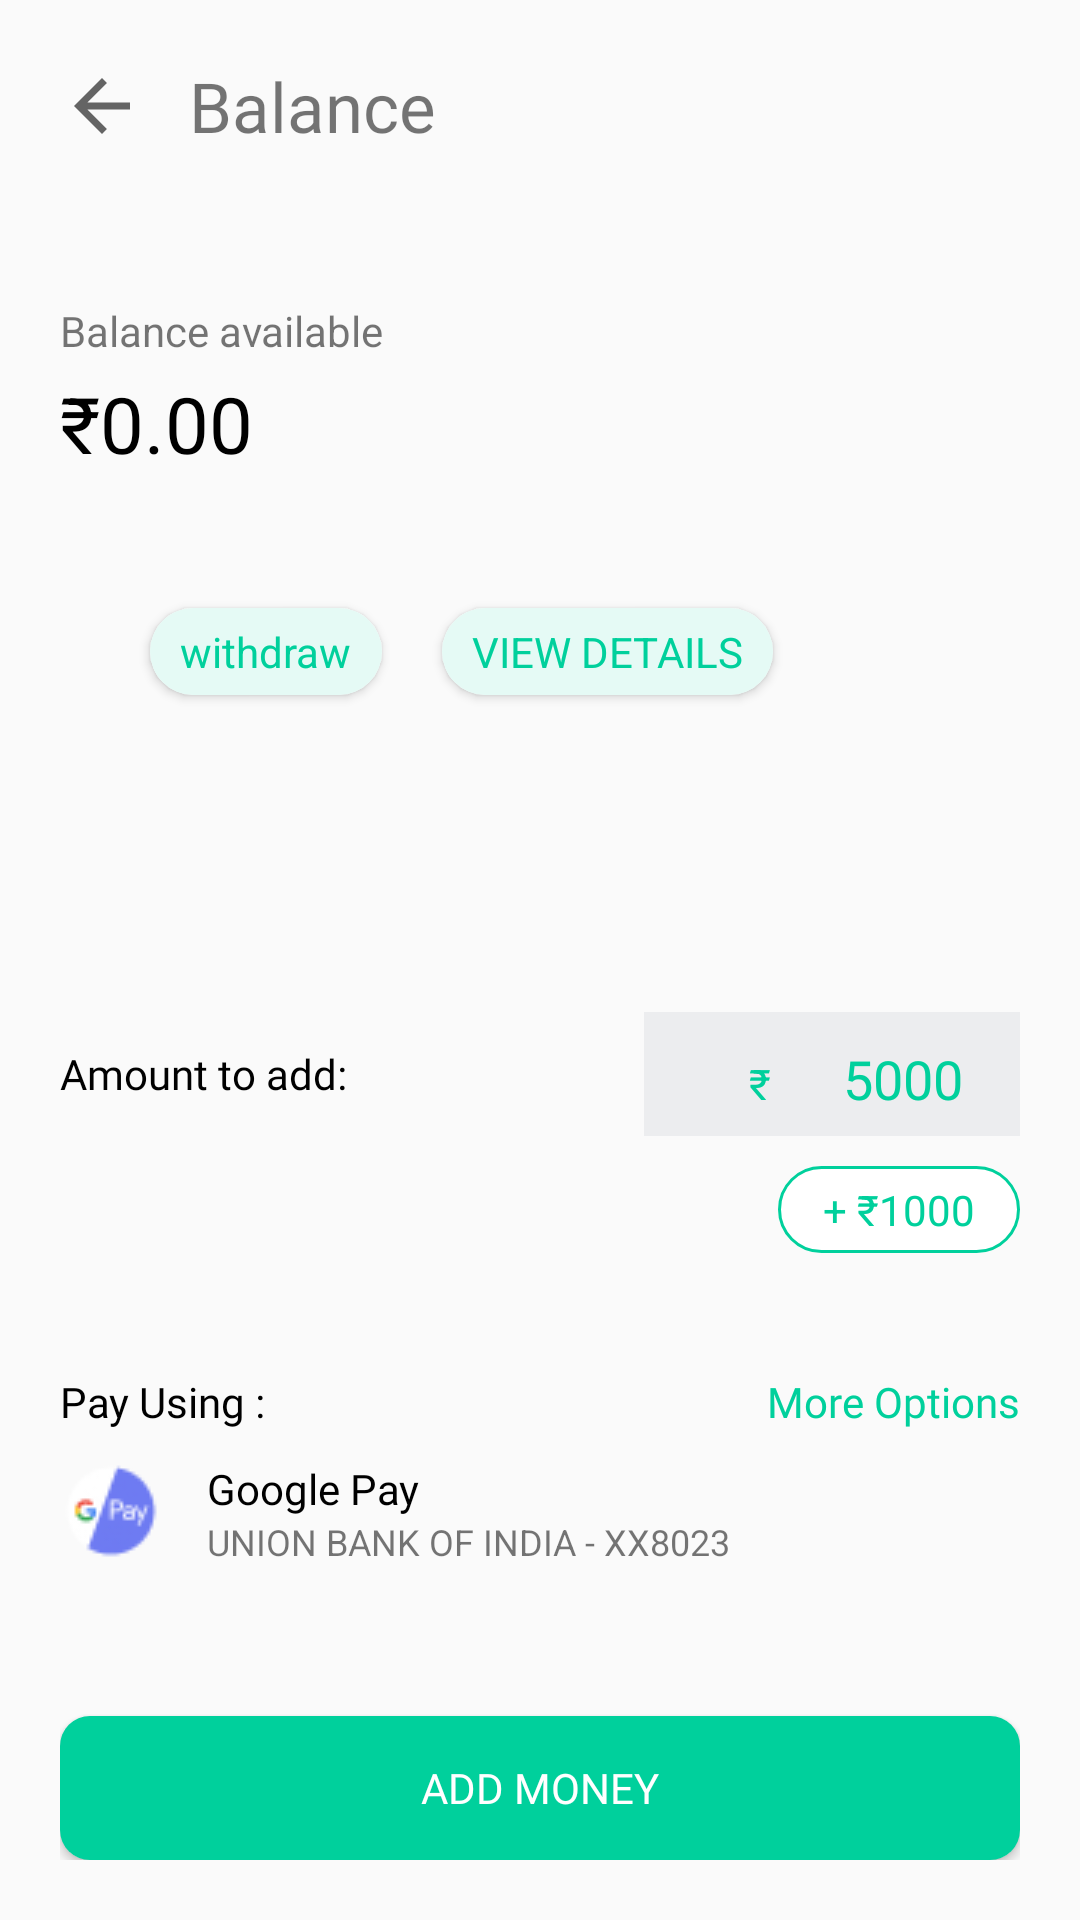

Locate icon controls on the screen. Image size 1080px x 1920px, boxes as {"left": x1, "top": y1, "right": x2, "bottom": y2}.
arrow back: {"left": 74, "top": 78, "right": 130, "bottom": 134}
